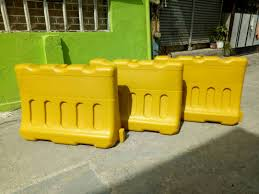barrier: (14, 63, 126, 147), (89, 55, 183, 138), (180, 56, 249, 126)
